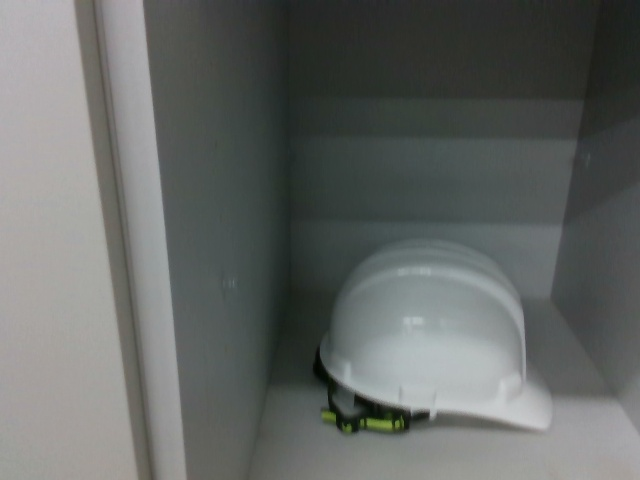helmet: (319, 234, 556, 442)
